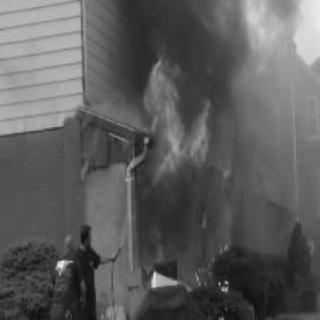Fire: (120, 39, 240, 291)
